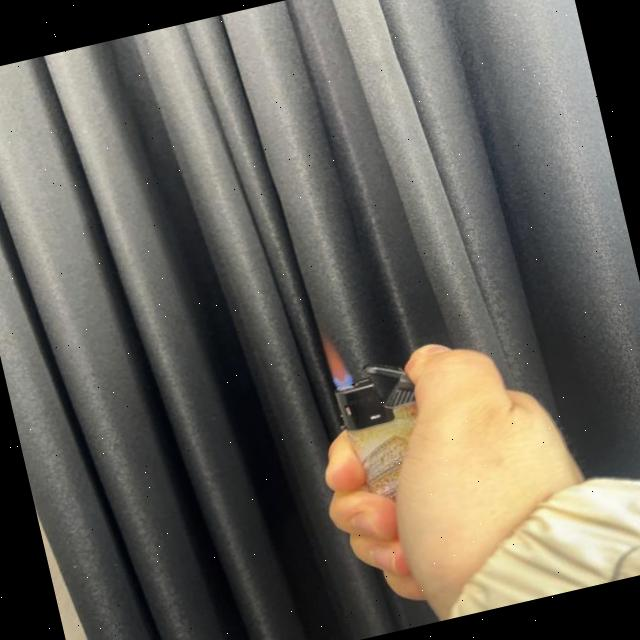fire: (317, 326, 356, 394)
